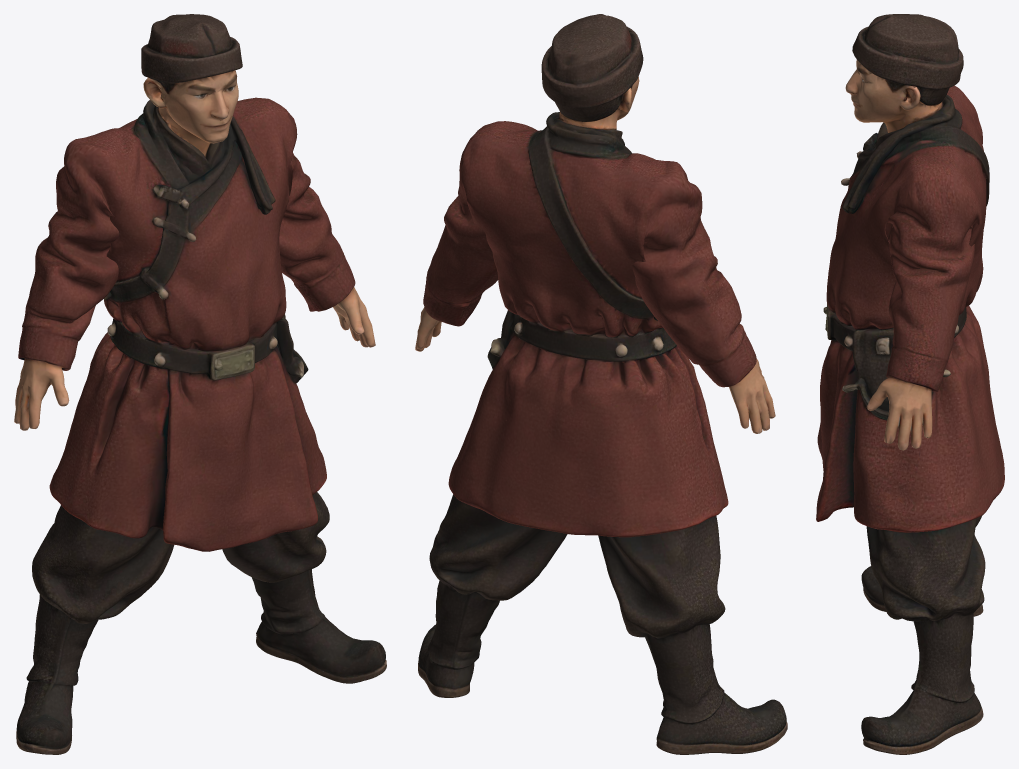
Rendered from asset-xiongnu.glb.
3 views of the same model, side by side, from view 1: azimuth 30°, elevation 25°; view 2: azimuth 150°, elevation 25°; view 3: azimuth 270°, elevation 25° (orthographic). The views are drawn at different scales.
Parts seen in each view (by area): view 1: tripo_node_b614d405-a227-4642-9fa0-0495e08a5b27; view 2: tripo_node_b614d405-a227-4642-9fa0-0495e08a5b27; view 3: tripo_node_b614d405-a227-4642-9fa0-0495e08a5b27.
Boxes of the visible parts, bbox=[...] form: tripo_node_b614d405-a227-4642-9fa0-0495e08a5b27: bbox=[14, 14, 386, 754]; tripo_node_b614d405-a227-4642-9fa0-0495e08a5b27: bbox=[415, 14, 787, 754]; tripo_node_b614d405-a227-4642-9fa0-0495e08a5b27: bbox=[816, 14, 1004, 754].
Size of the model in its own units: 0.9373 by 1.72 by 0.4454.
Materials: 1 (1 with a texture image).
